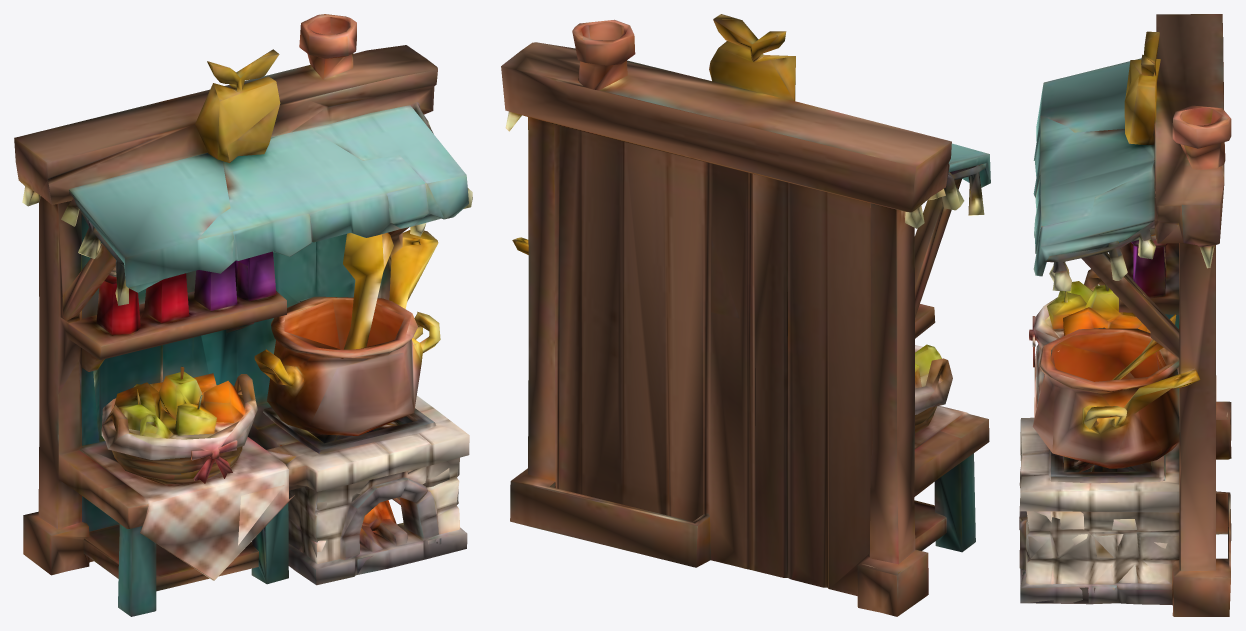
File: guojiangguo-3.glb
3 views of the same model, side by side, from view 1: azimuth 30°, elevation 25°; view 2: azimuth 150°, elevation 25°; view 3: azimuth 270°, elevation 25° (orthographic). The views are drawn at different scales.
Parts seen in each view (by area): view 1: node_0; view 2: node_0; view 3: node_0.
Boxes of the visible parts, bbox=[...] form: node_0: bbox=[14, 14, 472, 616]; node_0: bbox=[501, 14, 990, 616]; node_0: bbox=[1019, 14, 1231, 616].
Bounding box in the file's own units: 0.7705 × 0.893 × 0.3568.
Materials: 1 (1 with a texture image).
